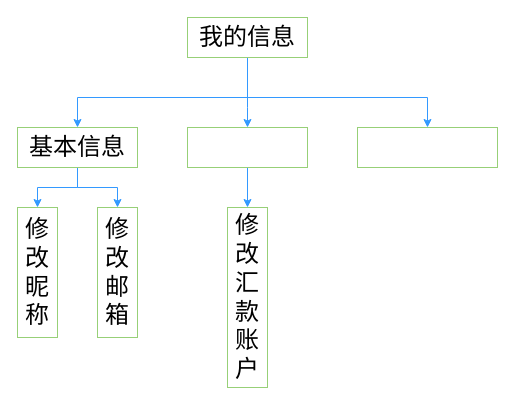
This 515x405 diagram has some shape labels left out. Here are the shapes that lost their labels. From the top down, the centre of each, then its label:
At [247,147]: "财务账号".
At [427,147]: "修改密码".
